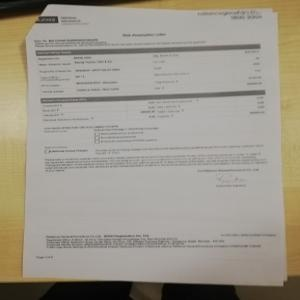table: (42, 92, 269, 143), (33, 42, 266, 89)
text: (41, 151, 270, 175), (43, 228, 278, 250)
